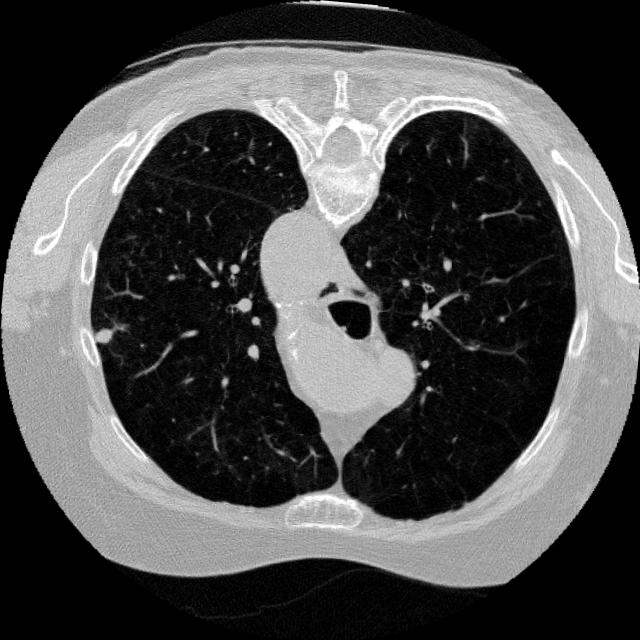nodule: (84, 316, 124, 356)
